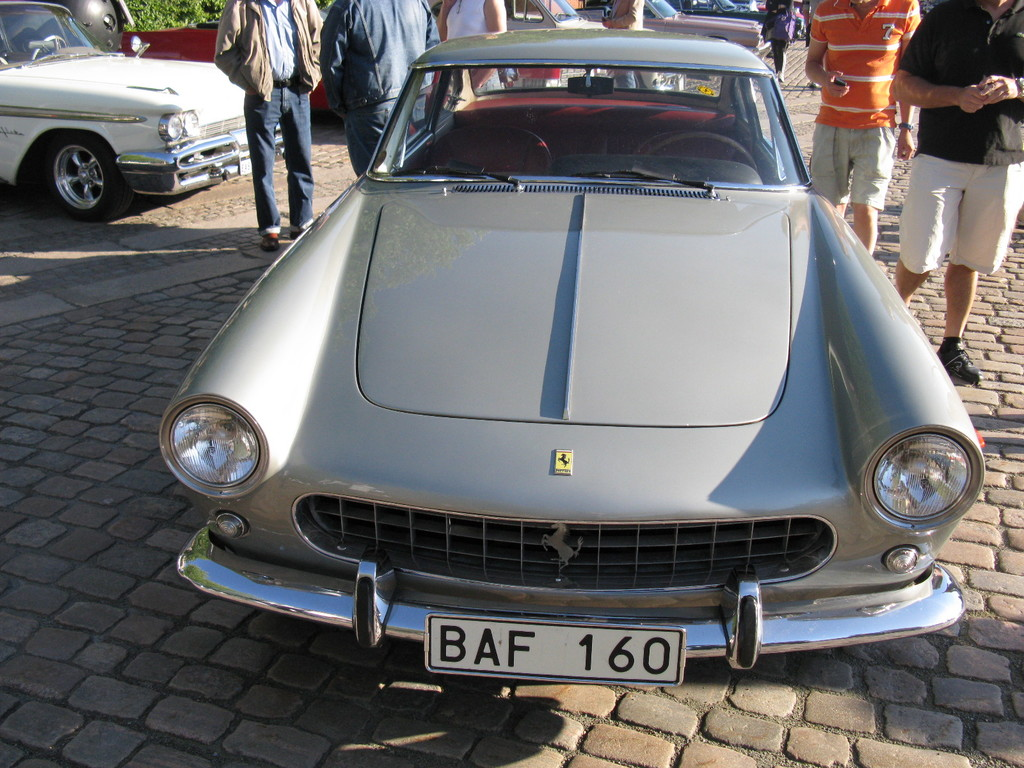Car: (160, 21, 983, 680), (0, 0, 295, 222), (358, 0, 805, 75)
